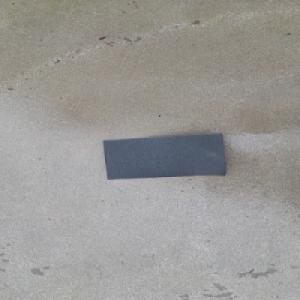PaintChip: (101, 131, 227, 179)
